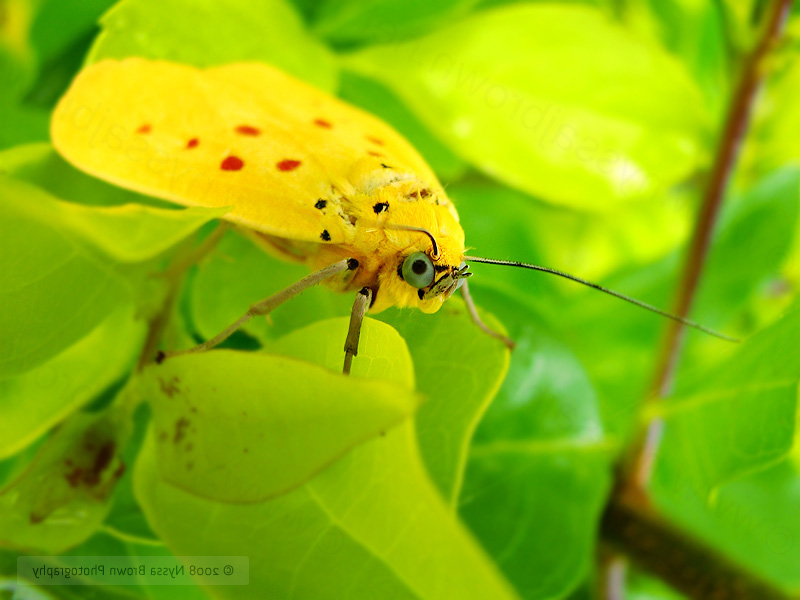Agape chloropyga: (49, 51, 744, 379)
moth: (47, 49, 742, 377)
